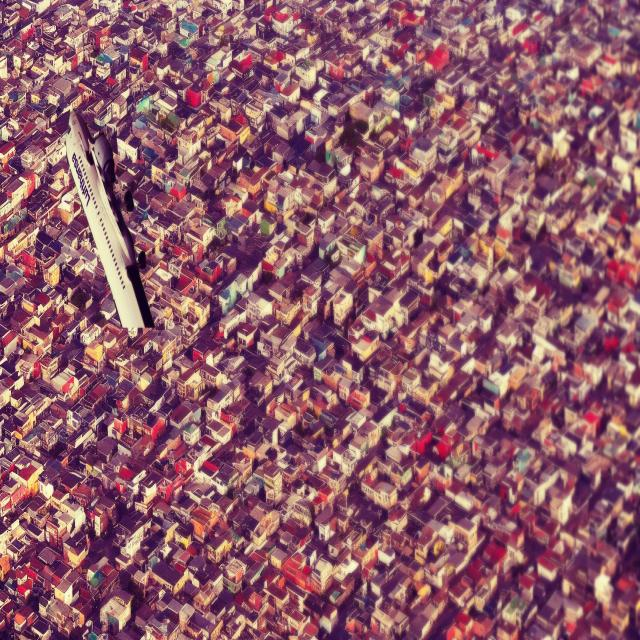airplane: (64, 107, 155, 340)
